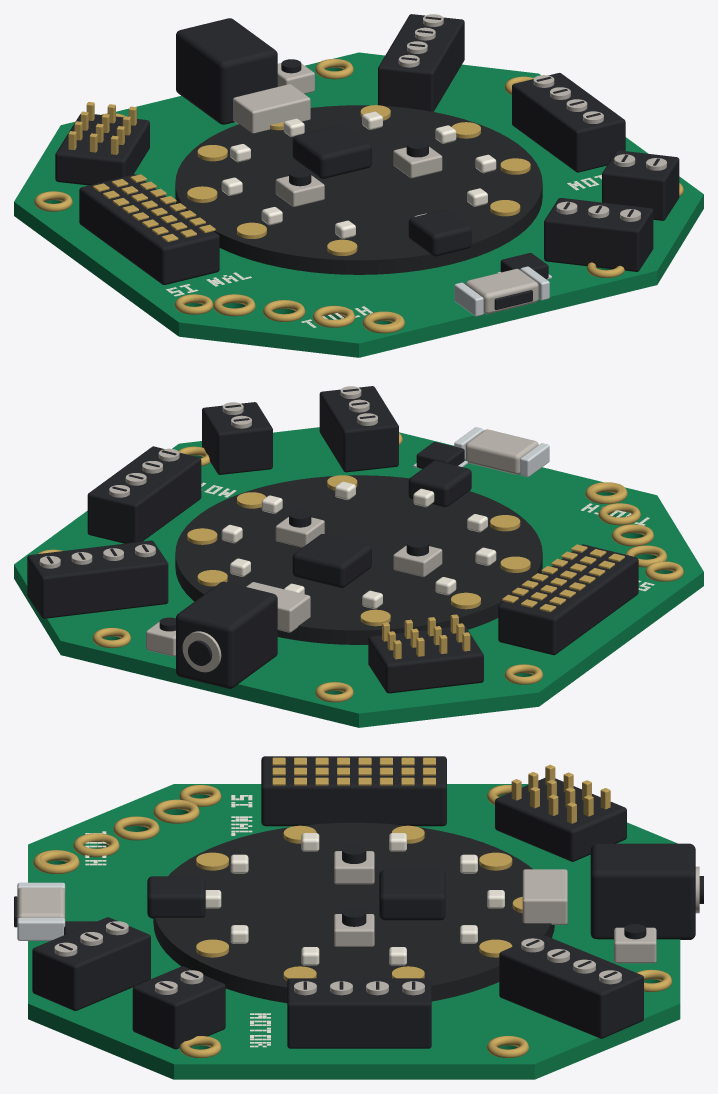
Rendered from components-40.glb.
The picture shows the model from 3 angles, top to bottom: view 1: azimuth 30°, elevation 25°; view 2: azimuth 150°, elevation 25°; view 3: azimuth 270°, elevation 25°; orthographic projection. The views are drawn at different scales.
Parts seen in each view (by area): view 1: board, control, signal, power, motors, pixels, drive, servos, speaker, debug, touch, seesaw; view 2: board, control, signal, power, drive, motors, servos, pixels, speaker, debug, touch, seesaw; view 3: board, control, signal, power, motors, drive, servos, pixels, speaker, touch, debug.
Part boxes in pixels (x1,y1,x2,y2): board: (14,52,703,357); control: (175,84,542,274); signal: (79,174,219,284); power: (176,18,314,124); motors: (512,73,625,172); pixels: (544,198,653,271); drive: (378,14,464,111); servos: (55,102,149,185); speaker: (602,150,679,220); debug: (454,266,549,316); touch: (213,294,404,333); seesaw: (497,253,551,279); board: (14,427,703,727); control: (175,460,542,644); signal: (498,544,638,655); power: (146,581,277,688); drive: (27,540,168,618); motors: (87,446,201,543); servos: (368,614,483,693); pixels: (319,386,398,472); speaker: (202,402,272,474); debug: (454,427,549,477); touch: (585,482,667,567); seesaw: (413,442,467,468); board: (28,784,680,1079); control: (147,822,567,1003); signal: (261,756,446,826); power: (590,843,703,963); motors: (287,978,431,1048); drive: (499,934,643,1038); servos: (495,764,626,861); pixels: (32,917,150,1010); speaker: (132,966,225,1049); touch: (33,799,199,873); debug: (14,882,65,940).
Size of the model in its own units: 2.5 by 0.344 by 2.6.
